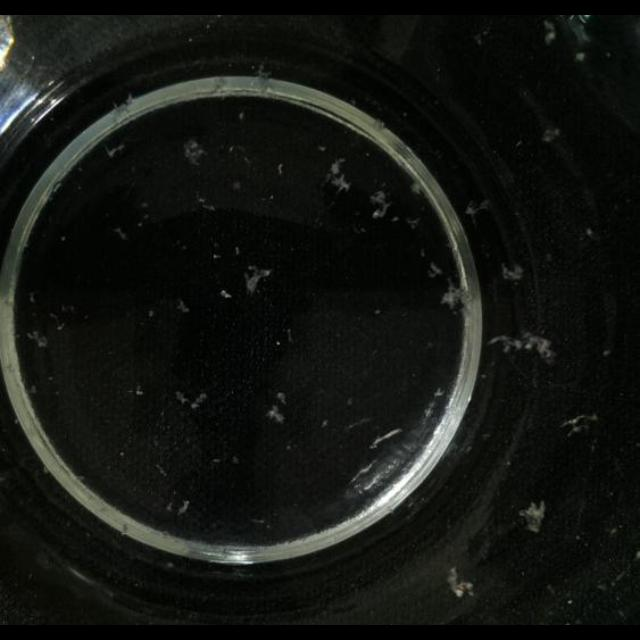Fibre: (488, 330, 558, 364), (324, 158, 352, 194), (520, 501, 546, 534), (439, 282, 467, 312), (244, 266, 272, 296), (447, 566, 473, 598), (176, 388, 208, 412), (182, 138, 206, 166), (370, 190, 392, 218), (265, 404, 285, 426), (27, 330, 49, 350), (168, 497, 192, 515), (176, 299, 190, 313)
microbeads: (502, 262, 524, 282), (542, 126, 560, 144), (219, 289, 231, 299), (276, 392, 286, 404), (434, 388, 446, 398), (574, 52, 586, 62), (134, 386, 144, 396)
